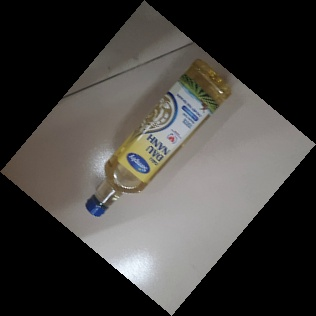Simply: (84, 59, 231, 218)
